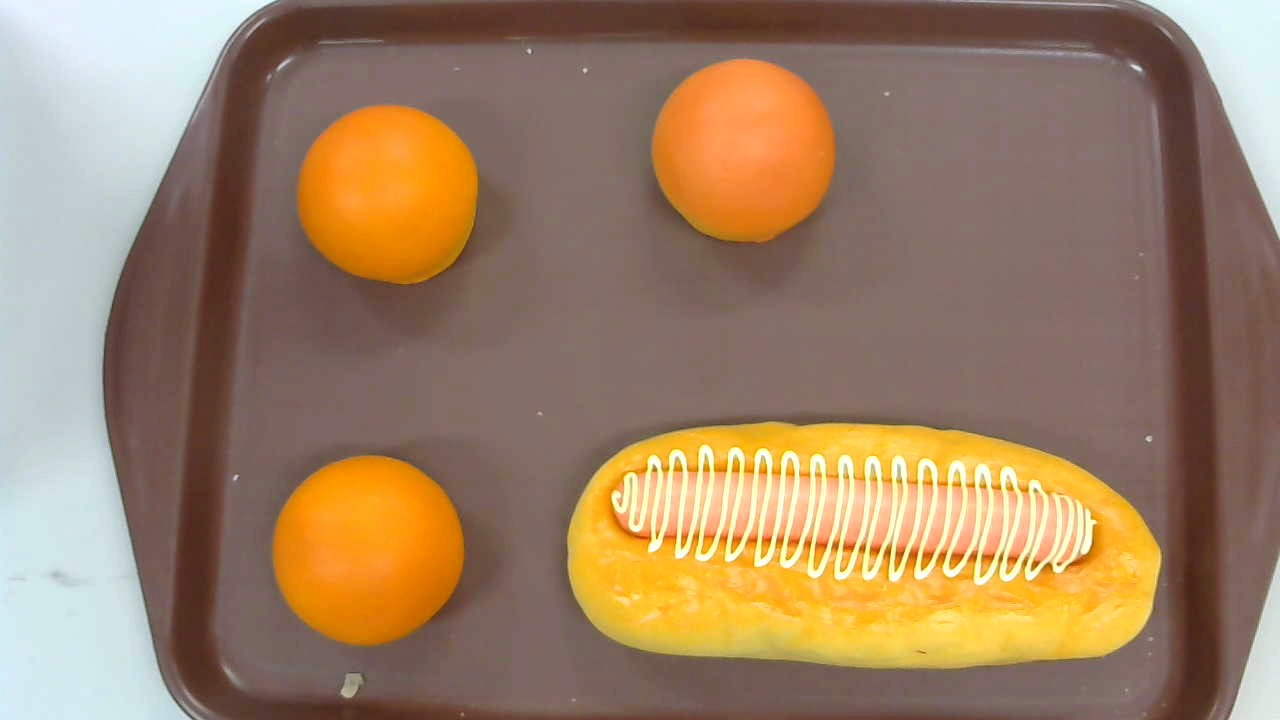bun: (272, 453, 464, 645), (651, 57, 835, 244), (297, 102, 478, 286)
hot dog: (567, 419, 1161, 670)
